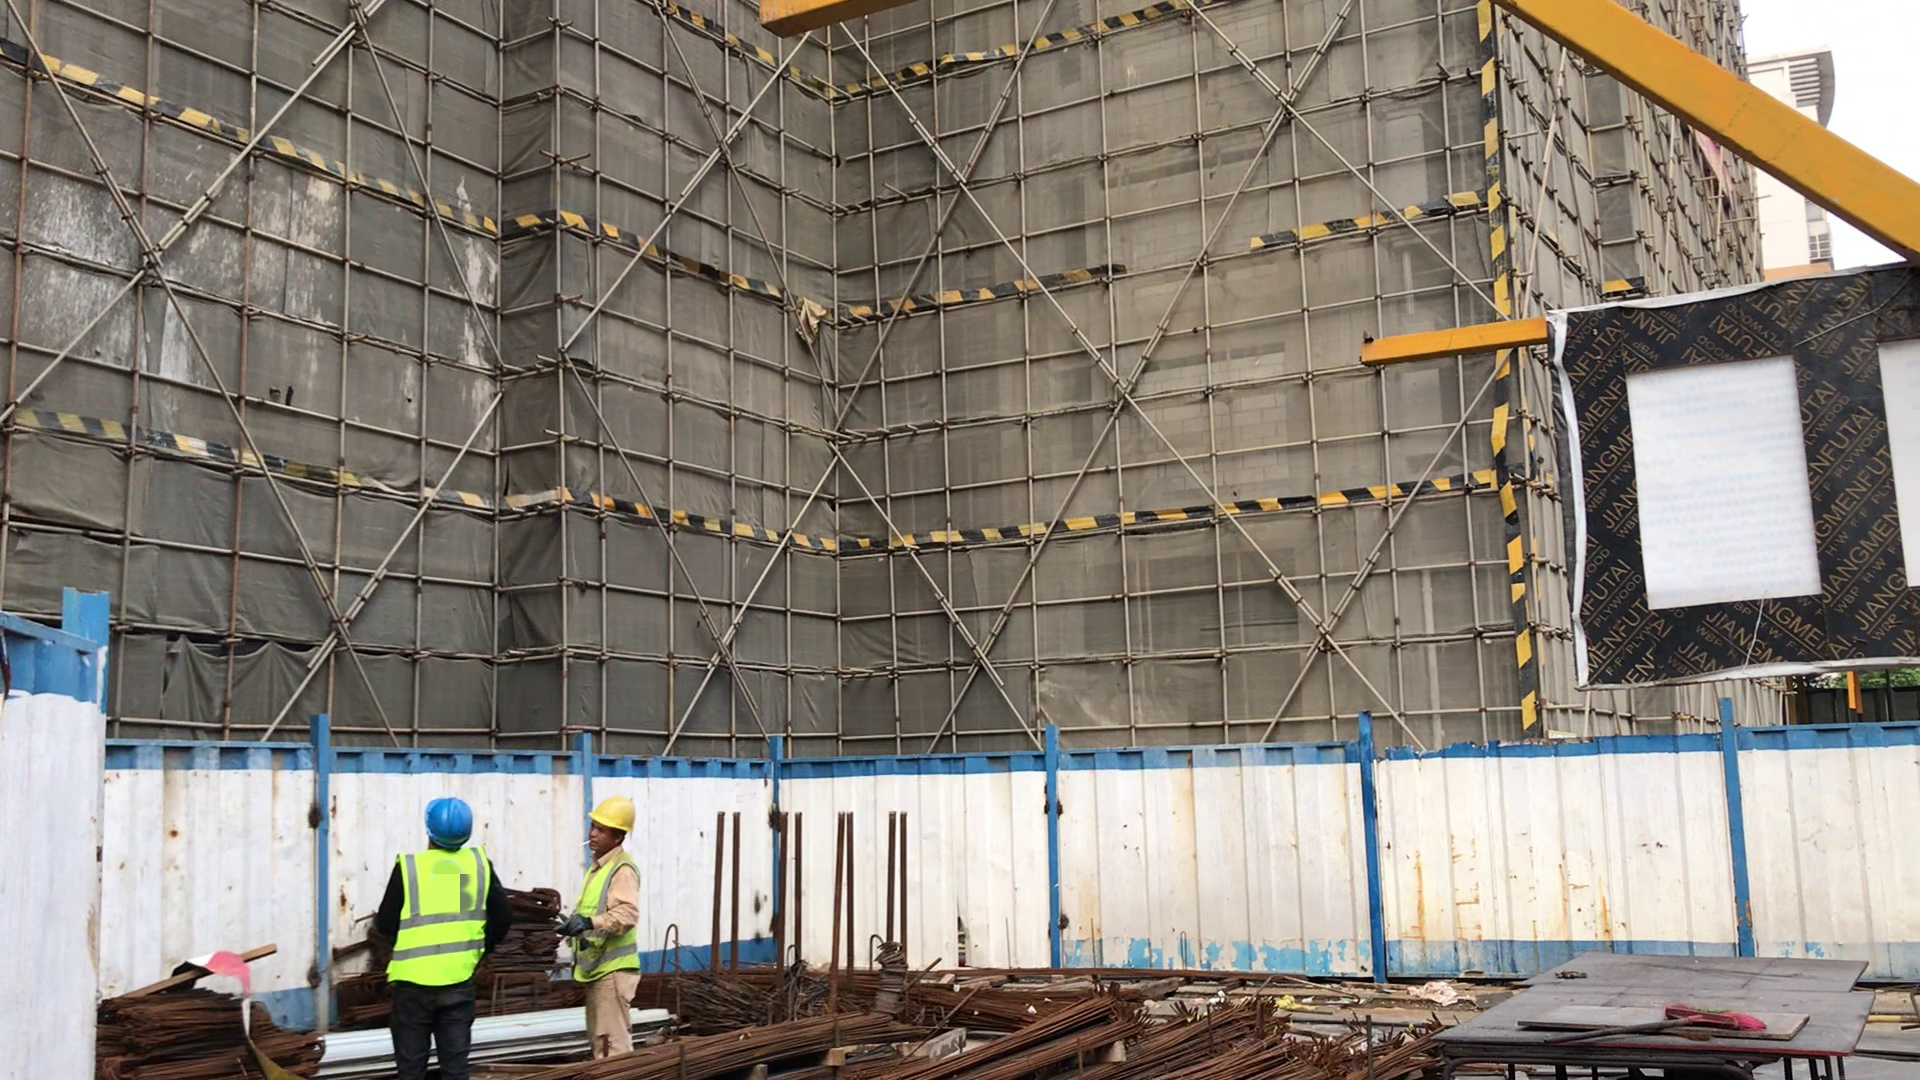helmet: (581, 795, 640, 840), (422, 796, 473, 847)
person: (355, 780, 503, 1079), (555, 793, 673, 1069)
vest: (390, 847, 486, 985), (562, 862, 644, 975)
